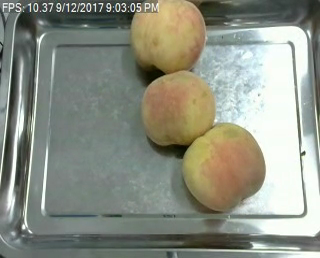Peach: (183, 121, 266, 212), (142, 69, 214, 147), (130, 0, 205, 72)
